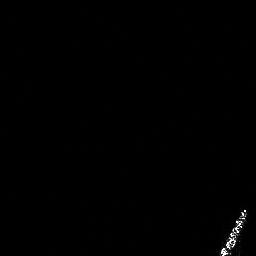ship: (215, 205, 252, 256)
